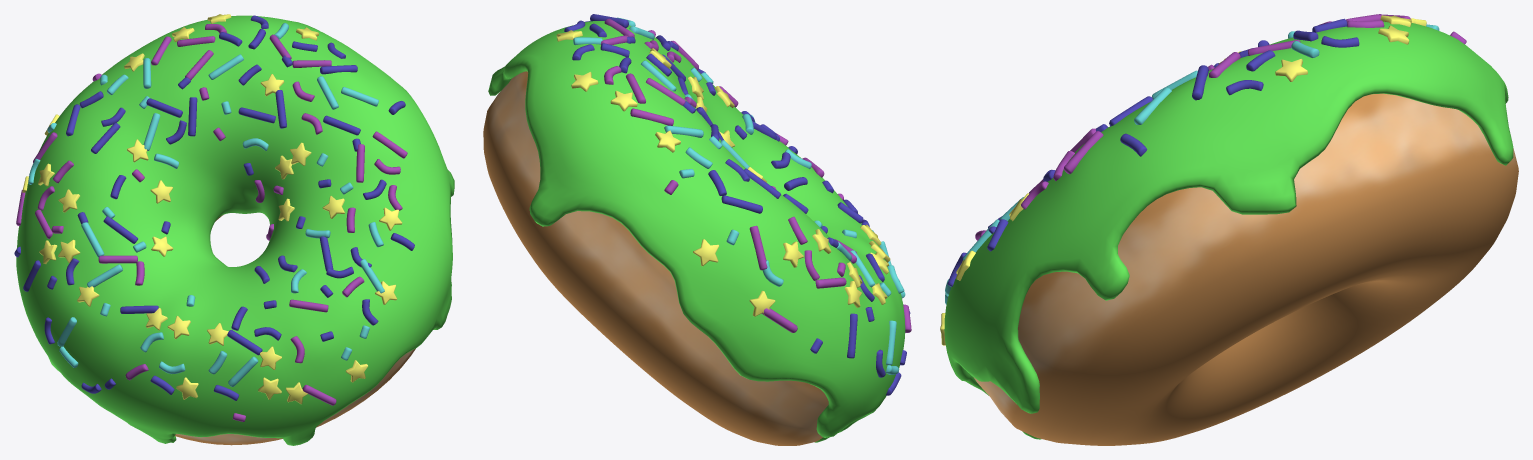
The model's file is Donut_Andres.gltf.
The picture shows the model from 3 angles, left to right: view 1: azimuth 30°, elevation 25°; view 2: azimuth 150°, elevation 25°; view 3: azimuth 270°, elevation 25°; orthographic projection. The views are drawn at different scales.
Visible parts, largest first — view 1: Icing, Icing.012, Icing.001, Donut; view 2: Icing, Donut, Icing.012, Icing.001; view 3: Donut, Icing, Icing.012, Icing.001.
Boxes of the visible parts, x1,y1,x2,y2 form: Icing: [16, 15, 454, 445]; Icing.012: [14, 15, 414, 421]; Icing.001: [22, 14, 402, 404]; Donut: [175, 215, 415, 445]; Icing: [488, 21, 905, 442]; Donut: [483, 71, 828, 445]; Icing.012: [564, 14, 911, 395]; Icing.001: [556, 30, 890, 316]; Donut: [973, 93, 1518, 445]; Icing: [944, 21, 1513, 439]; Icing.012: [945, 14, 1466, 304]; Icing.001: [940, 15, 1426, 345].
Bounding box in the file's own units: 0.0922 × 0.0874 × 0.0963.
6 materials, 1 textured.
